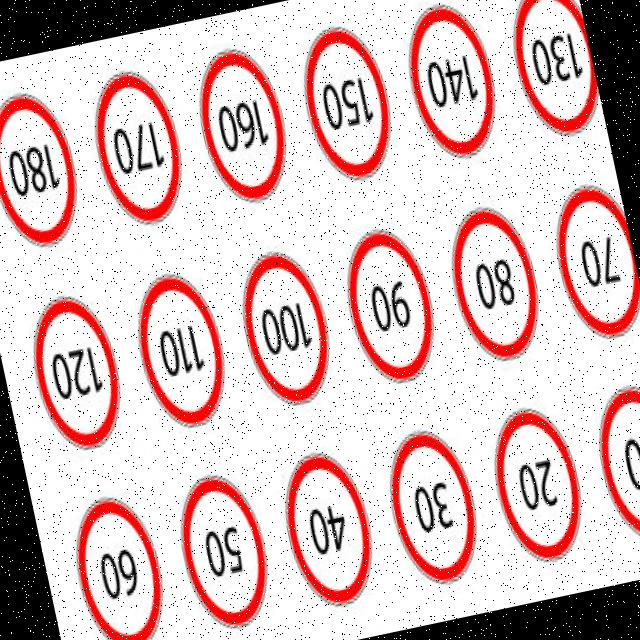speed_limit_100: (223, 237, 349, 422)
speed_limit_120: (16, 282, 139, 469)
speed_limit_20: (475, 398, 600, 574)
speed_limit_30: (374, 420, 495, 604)
speed_limit_50: (161, 455, 284, 640)
speed_limit_60: (57, 481, 178, 640)
speed_limit_70: (537, 167, 640, 353)
speed_limit_80: (435, 195, 557, 376)
